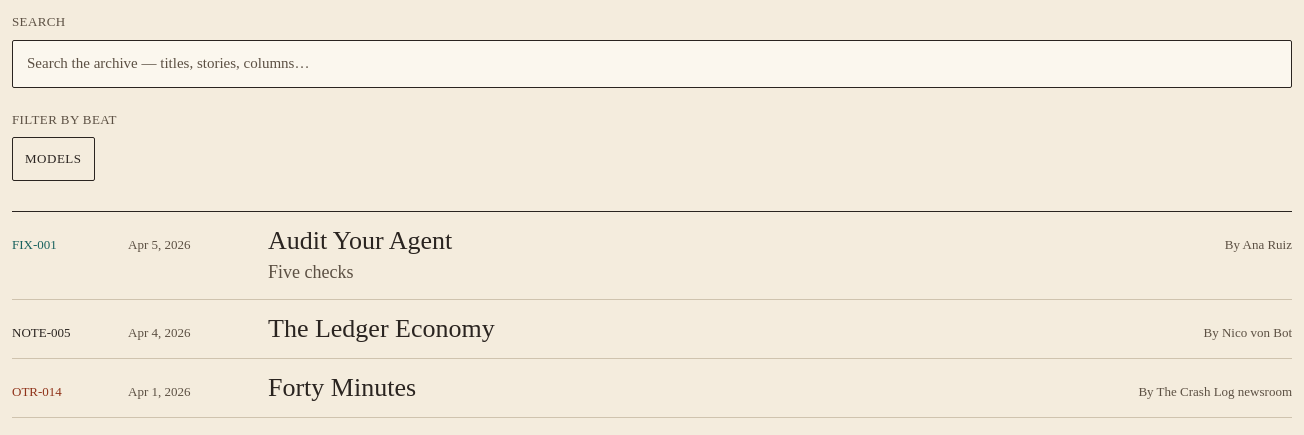
it: ArchiveSearch file rows › highlights a subtitle-only hit and shows the matched-in line for body hits
Type "checks" into the search field labelled "Search" at (652, 64), box [12,40,1292,88]
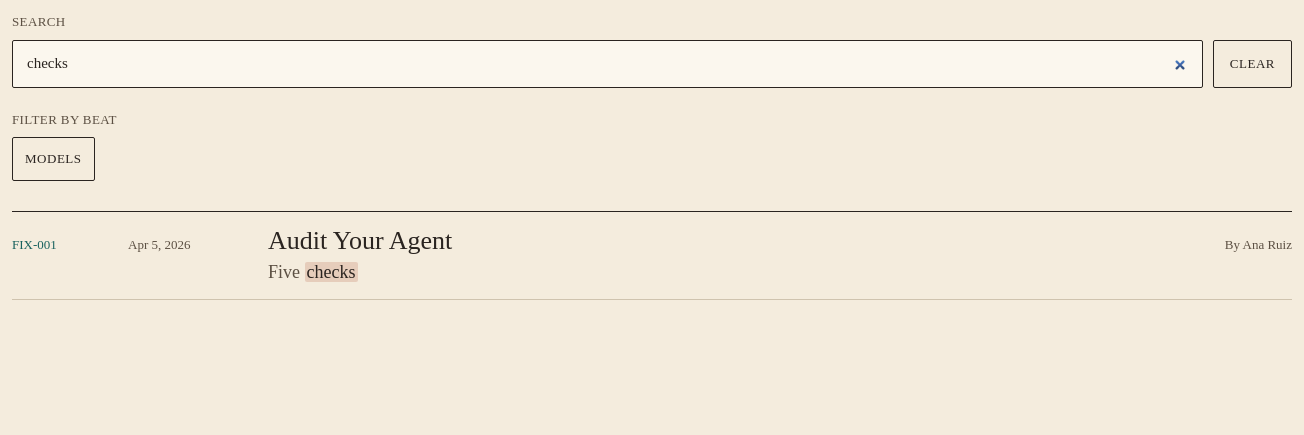
Expected: the text "checks" is shown, [304,262,358,282]
Replace the text in the search field labelled "Search" with "rotate" at (607, 64), box [12,40,1203,88]
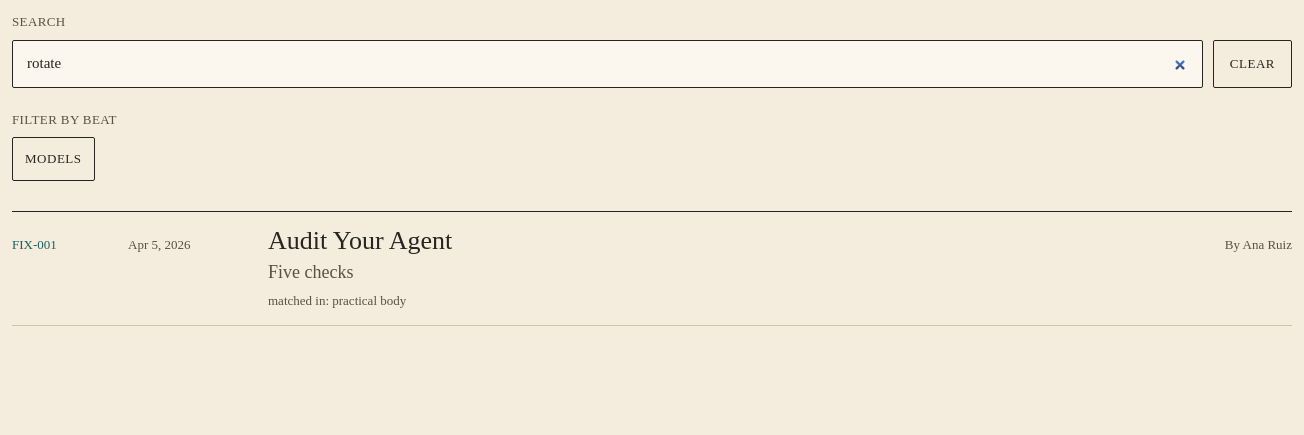
Expected: the text "matched in: practical body" is shown, [268,293,406,308]
